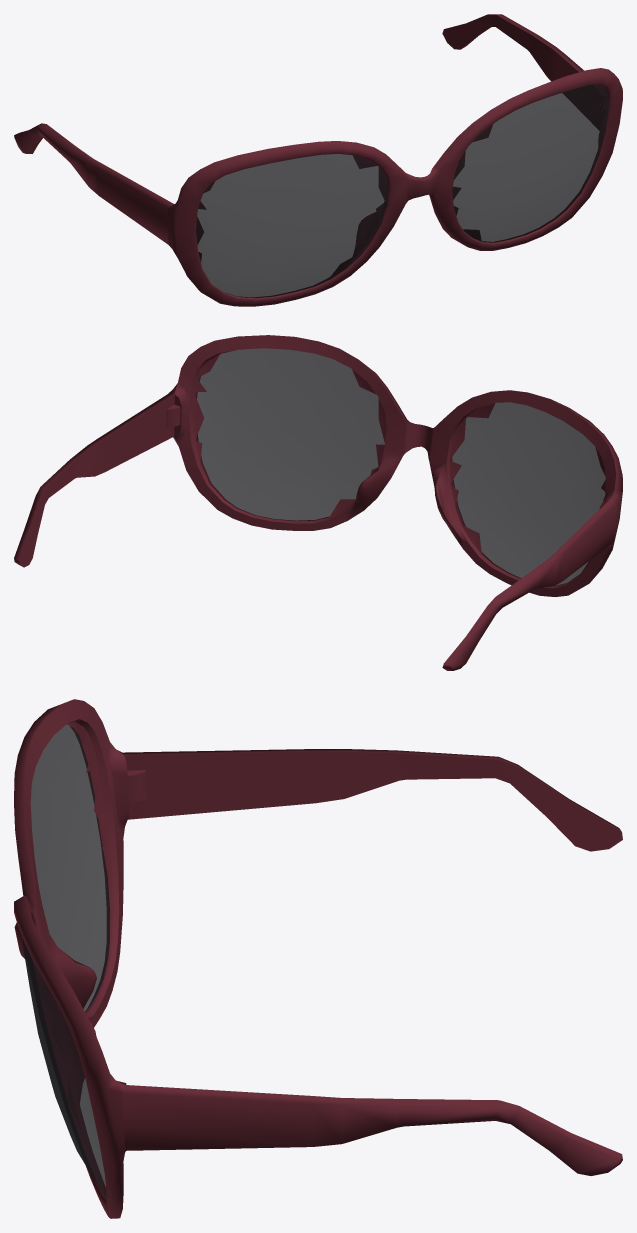
File: model_3_burgundy_wine.glb
The picture shows the model from 3 angles, top to bottom: view 1: azimuth 30°, elevation 25°; view 2: azimuth 150°, elevation 25°; view 3: azimuth 270°, elevation 25°; orthographic projection. The views are drawn at different scales.
Parts seen in each view (by area): view 1: Oversized_Black_Lens_Sunglasses; view 2: Oversized_Black_Lens_Sunglasses; view 3: Oversized_Black_Lens_Sunglasses.
Boxes of the visible parts, box(x1,y1,x2,y2) form: Oversized_Black_Lens_Sunglasses: box(14, 14, 622, 306); Oversized_Black_Lens_Sunglasses: box(14, 335, 622, 670); Oversized_Black_Lens_Sunglasses: box(14, 699, 622, 1218).
Size of the model in its own units: 0.1704 by 0.0608 by 0.1231.
